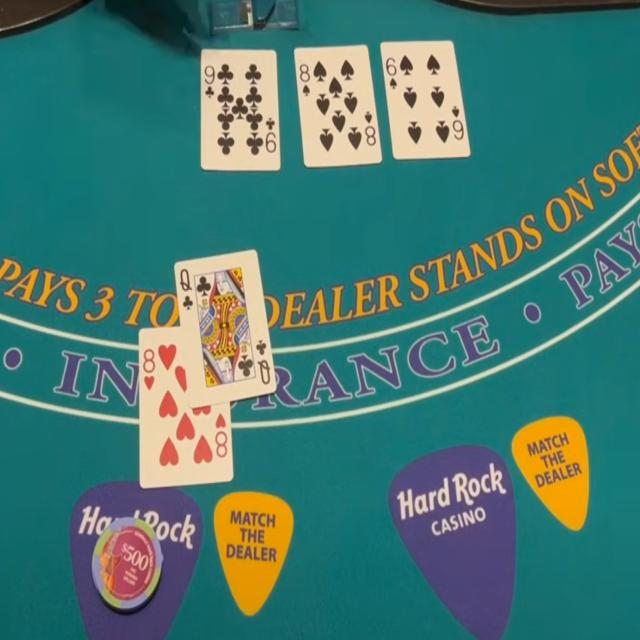6: (384, 54, 398, 78)
8: (140, 345, 156, 375), (298, 62, 312, 84)
9: (204, 62, 216, 86)
Q: (176, 266, 195, 295)
